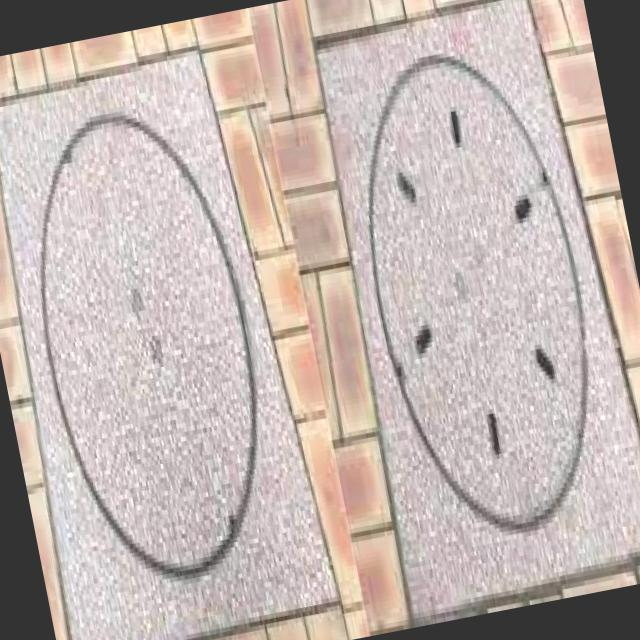manhole: (263, 0, 640, 634), (0, 28, 341, 640)
